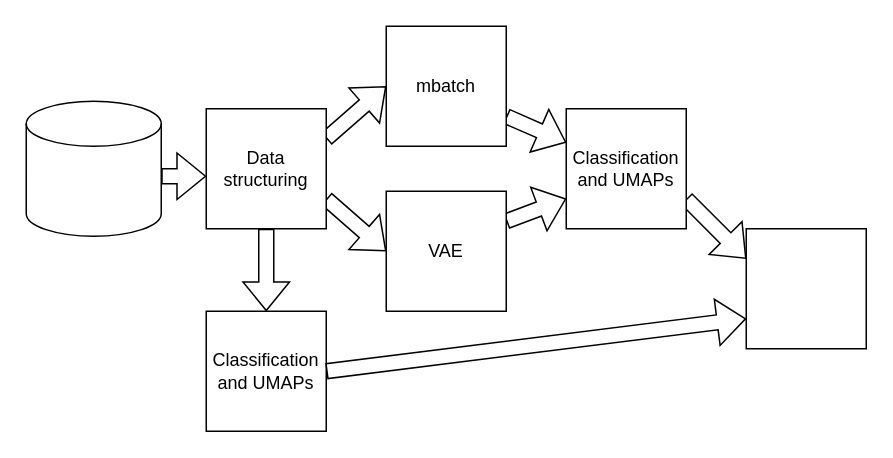
The diagram is 893 pixels wide and 458 high, and some of its shapes have lost their labels. The box of each missing label's shape, as (x1, y1, x2, y2) in pixels:
Benchmark: (745, 227, 866, 349)
CODER_Data Website: (25, 100, 161, 236)
